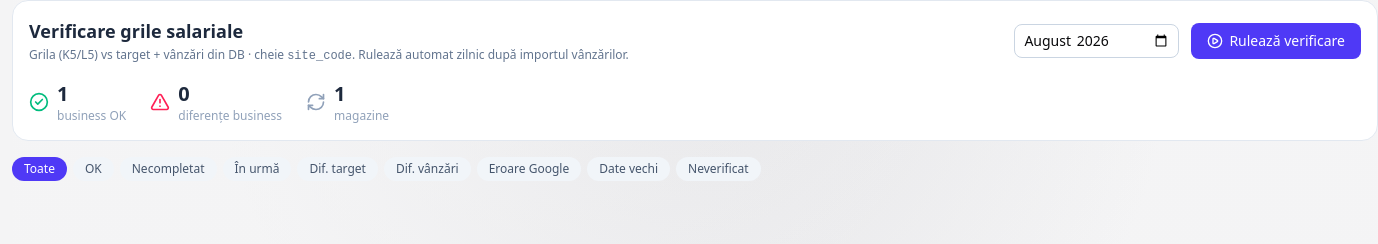
Test case: CurrentGrileSubtab run-check month scoping › removes the run-check error from the rendered UI when the selected month changes
Click the button "Rulează verificare".
click(1276, 40)  # box top-left (1191, 22), bottom-right (1361, 58)
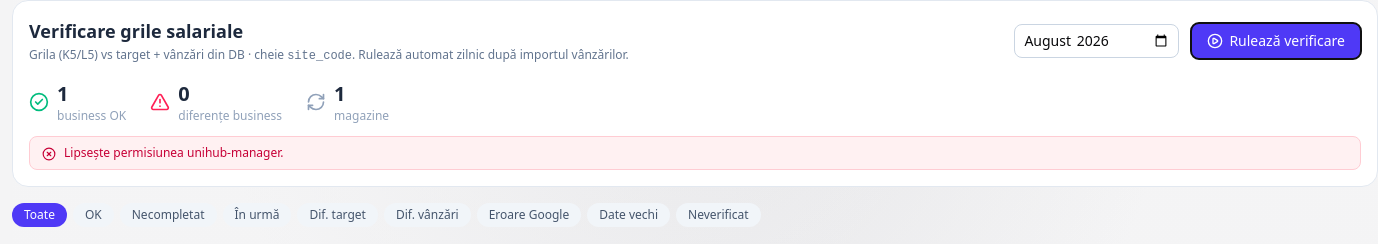
Now the message reads "Lipsește permisiunea unihub-manager.", box top-left (64, 144), bottom-right (284, 161)
Note: Operator switches the month to B while A's run-check error is still owned by A.
Replace the text in the field with "2026-09" at [1097, 40], box top-left (1014, 24), bottom-right (1179, 58)
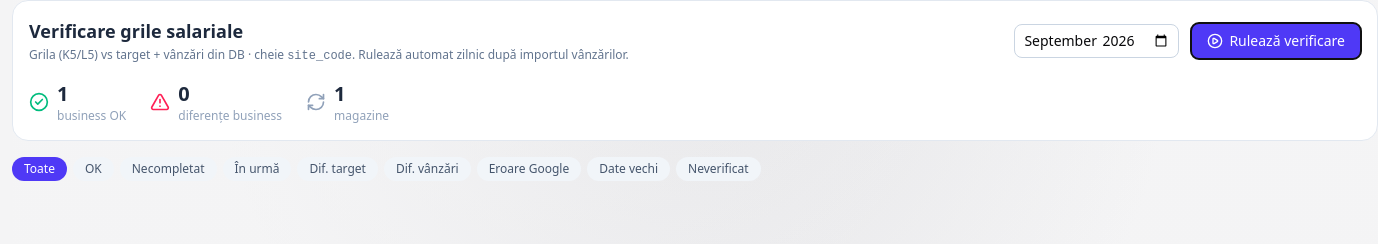
Now the message "Lipsește permisiunea unihub-manager." is gone
